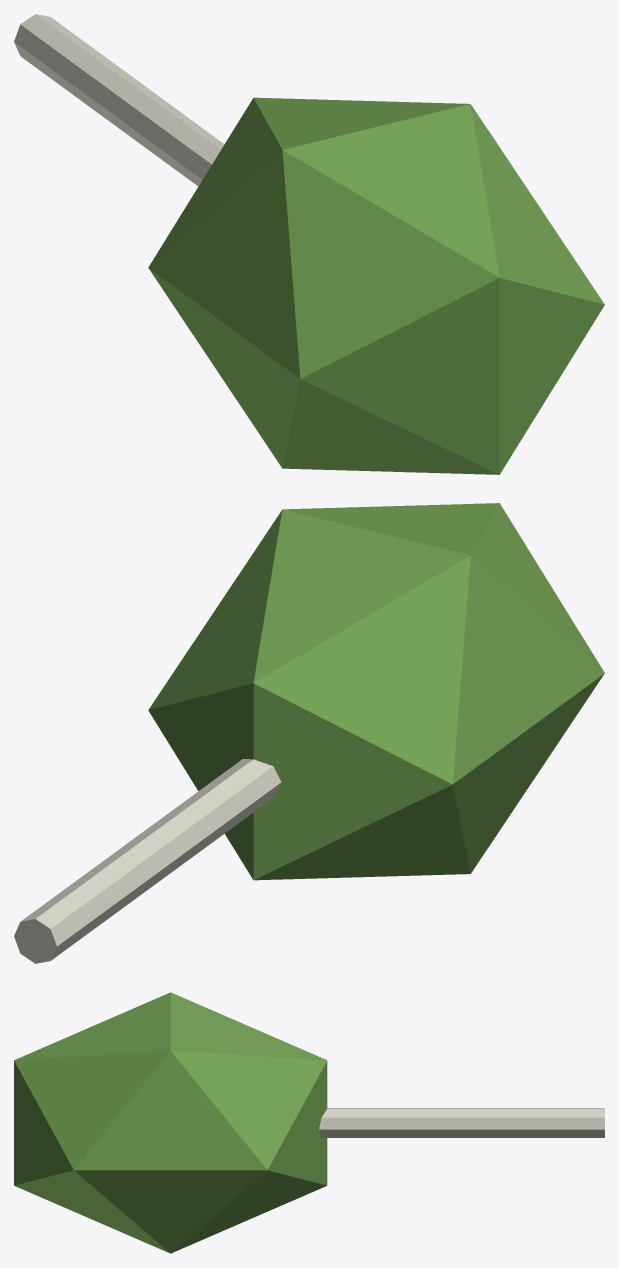
Rendered from tree_birch.obj.
3 renders of one model, top to bottom at view 1: azimuth 30°, elevation 25°; view 2: azimuth 150°, elevation 25°; view 3: azimuth 270°, elevation 25°, orthographic. The views are drawn at different scales.
Visible parts, largest first — view 1: tree_birch_crown, tree_birch_trunk; view 2: tree_birch_crown, tree_birch_trunk; view 3: tree_birch_crown, tree_birch_trunk.
Part boxes in pixels (left/top/right/bottom): tree_birch_crown: left=148, top=97, right=604, bottom=474; tree_birch_trunk: left=14, top=14, right=224, bottom=186; tree_birch_crown: left=148, top=503, right=604, bottom=880; tree_birch_trunk: left=14, top=758, right=281, bottom=963; tree_birch_crown: left=14, top=992, right=327, bottom=1253; tree_birch_trunk: left=319, top=1108, right=604, bottom=1137.
Bounding box in the file's own units: 3.4 × 3.4 × 8.98.
